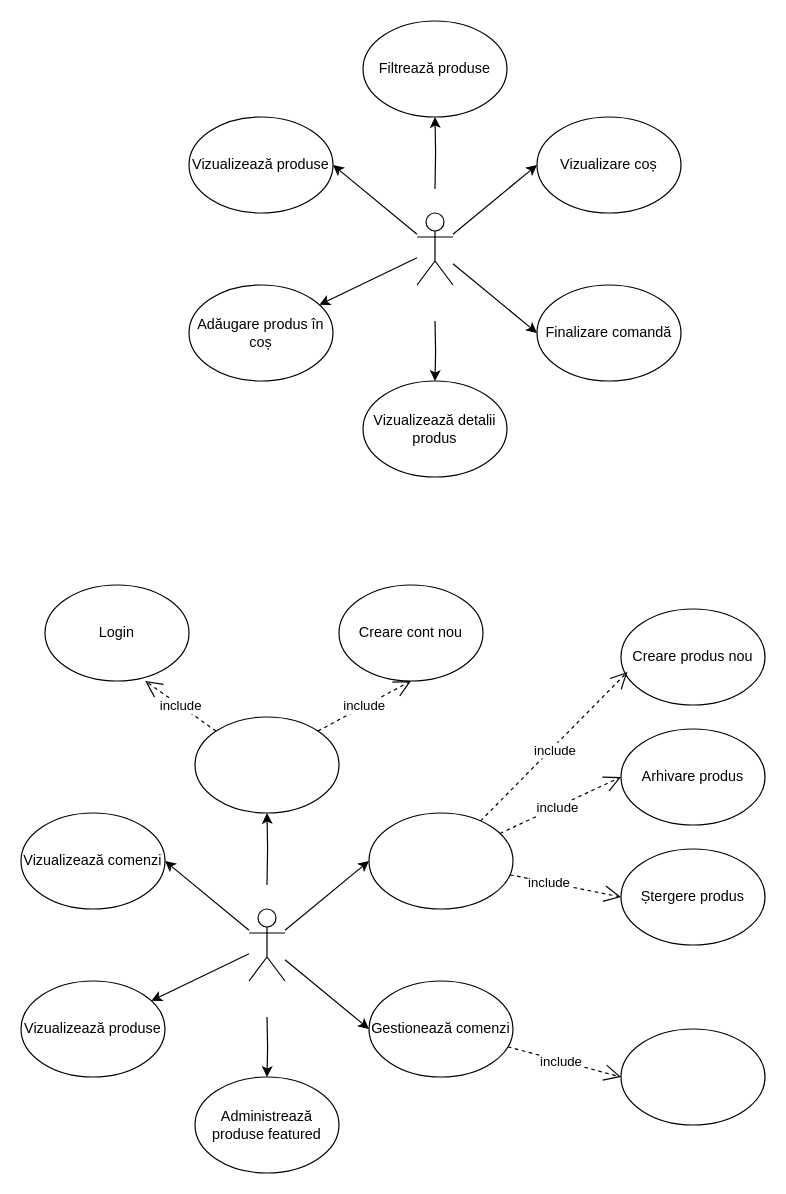
This 786x1194 diagram has some shape labels left out. Each missing label, with the centre of its shape:
Administrator: [266,944]
Autentificare: [266,764]
Gestionează produse: [440,860]
Vizitator: [434,248]
Șterge comandă: [692,1076]
